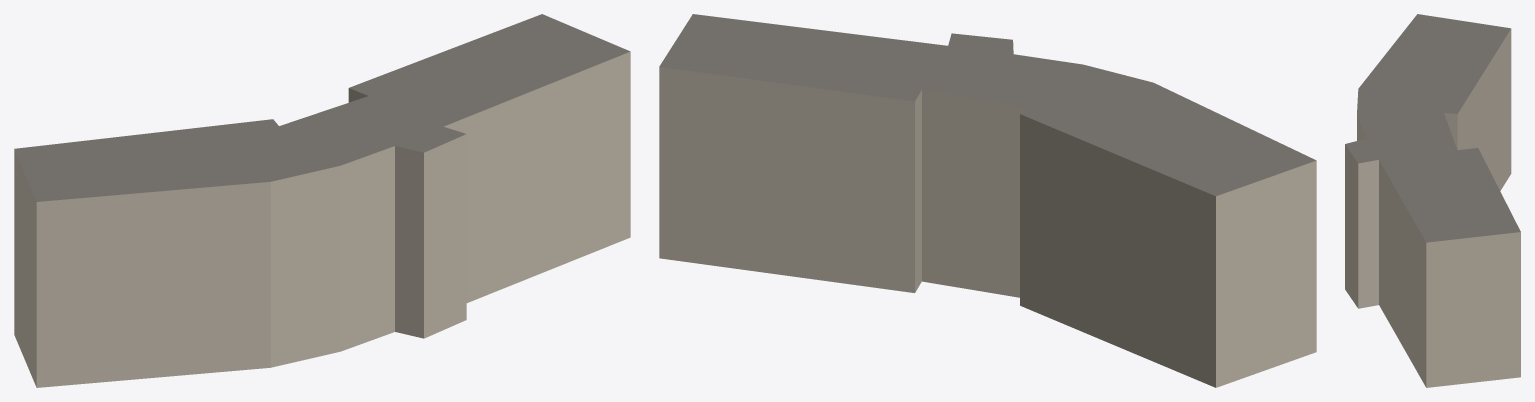
3 views of the same model, side by side, from view 1: azimuth 30°, elevation 25°; view 2: azimuth 150°, elevation 25°; view 3: azimuth 270°, elevation 25° (orthographic). The views are drawn at different scales.
Parts seen in each view (by area): view 1: HP-w505643537; view 2: HP-w505643537; view 3: HP-w505643537.
Part boxes in pixels (x1,y1,x2,y2): HP-w505643537: (14, 14, 630, 387); HP-w505643537: (659, 14, 1316, 387); HP-w505643537: (1345, 14, 1520, 387).
Size of the model in its own units: 40.5 by 12 by 13.17.
